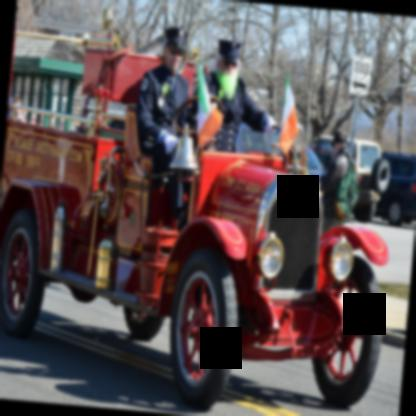backpack: (335, 152, 359, 222)
